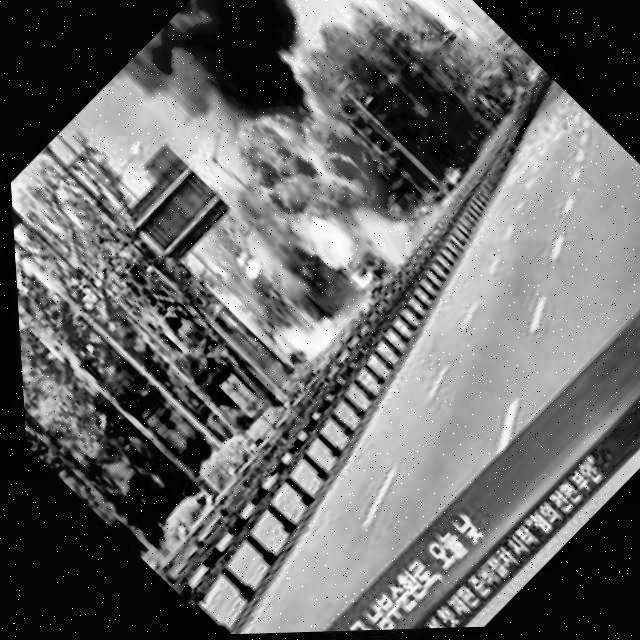Fire: (230, 115, 410, 291), (217, 93, 319, 191), (265, 305, 340, 378), (358, 216, 424, 279)
Smoke: (95, 0, 344, 181)
